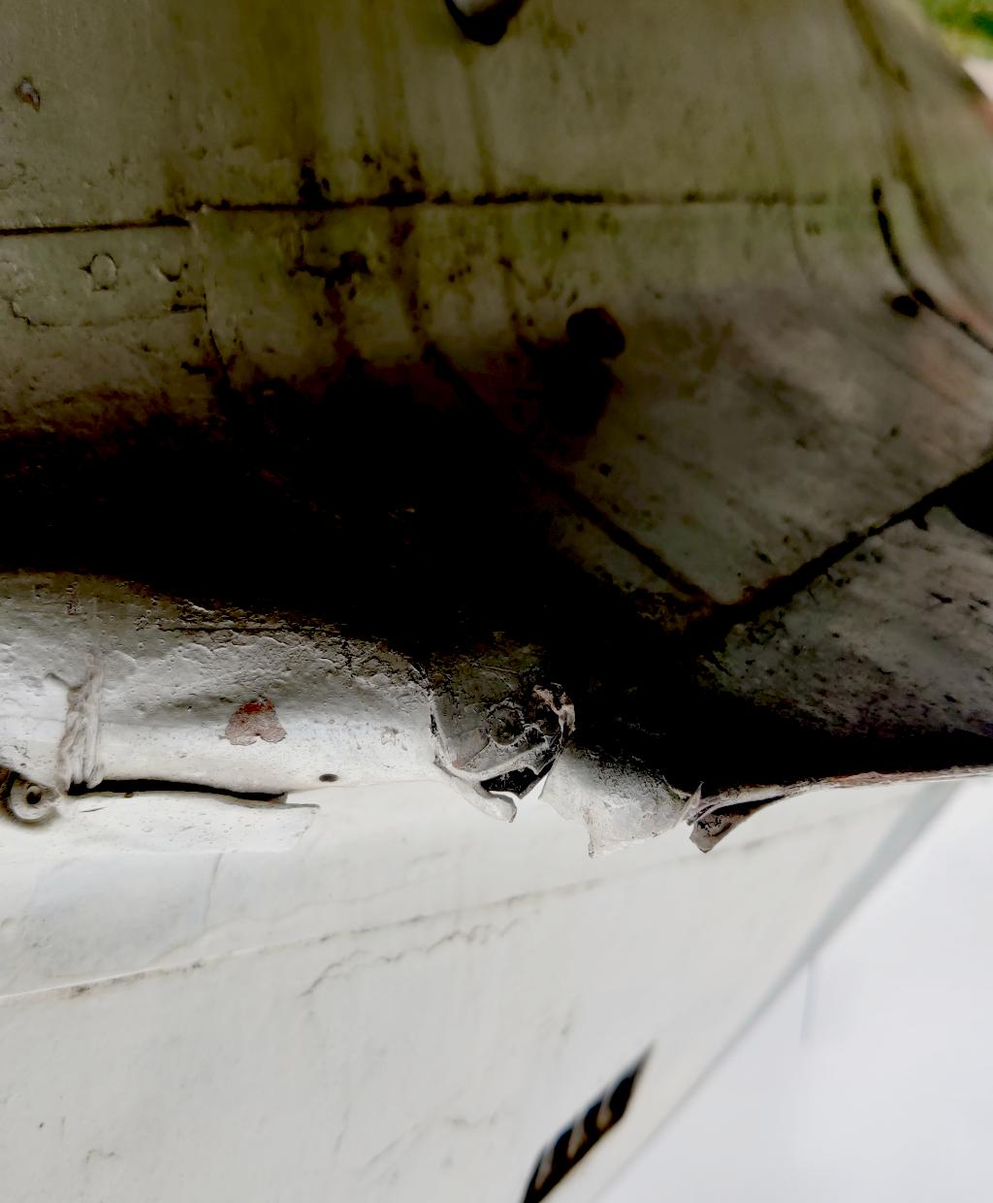crack: (589, 755, 833, 916), (453, 722, 582, 854)
